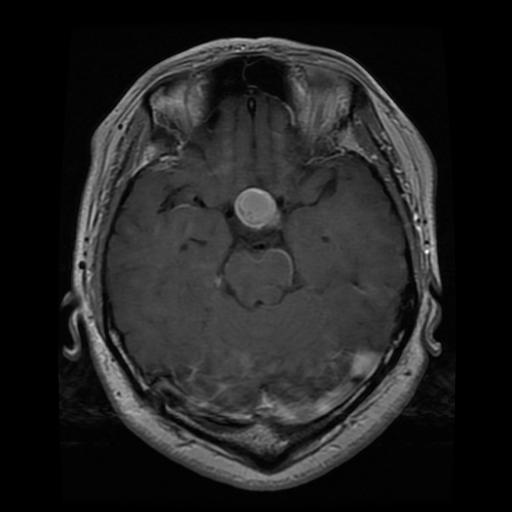Pituirity_tumour: (234, 188, 277, 228)
